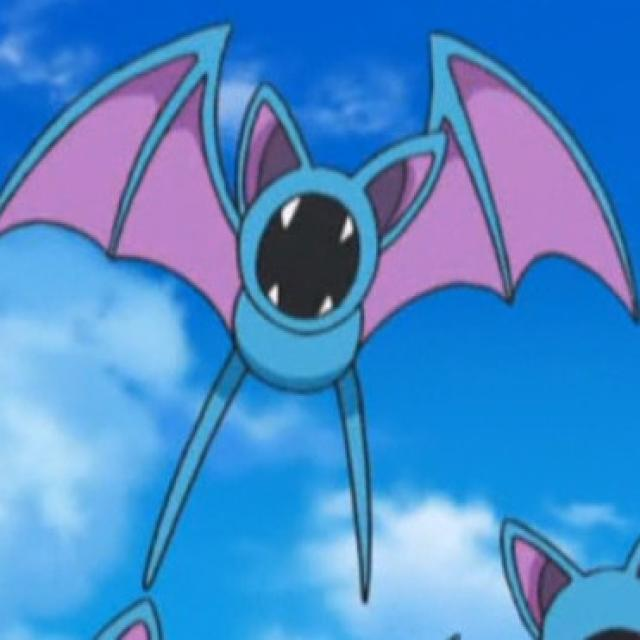Zubat: (105, 18, 511, 476)
